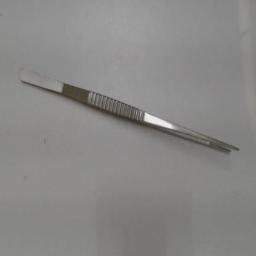DeBakey Dissector: (4, 49, 248, 165)
